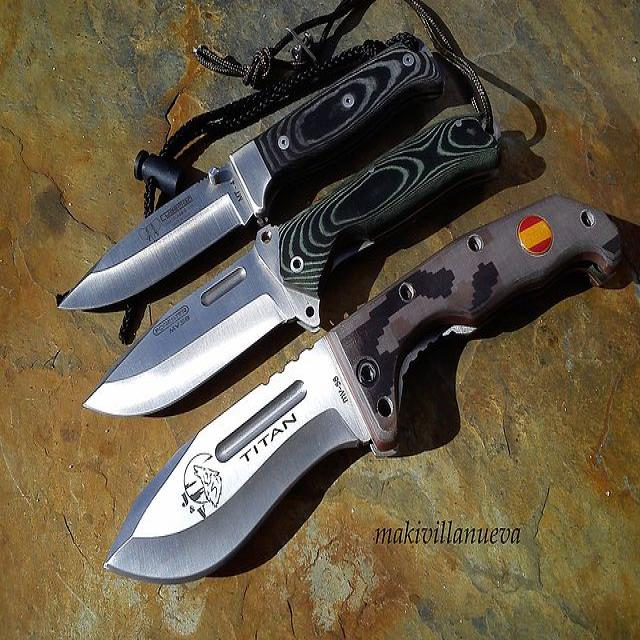knife: (96, 189, 628, 616), (78, 110, 503, 425), (45, 25, 455, 337)
